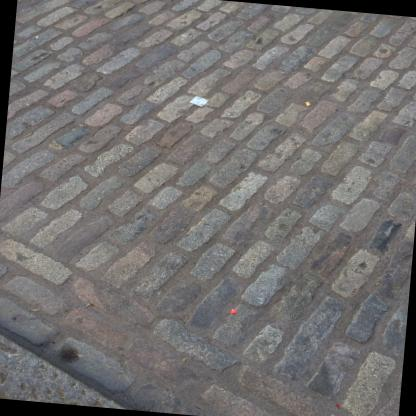Plastic: (189, 96, 209, 107)
